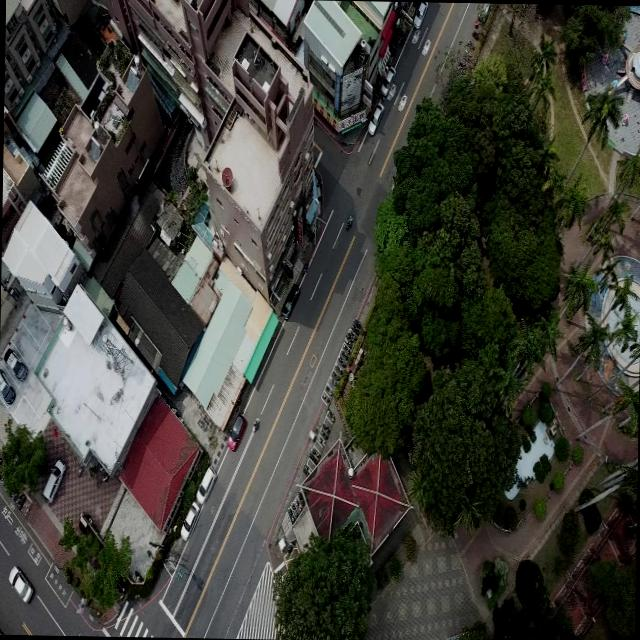bike: (251, 416, 259, 432), (290, 502, 298, 518), (302, 464, 312, 476), (308, 452, 318, 464), (320, 390, 330, 402), (352, 316, 362, 328), (294, 497, 302, 511), (298, 490, 305, 506), (346, 213, 352, 230), (288, 507, 294, 523), (328, 410, 336, 422), (352, 324, 360, 336), (322, 424, 331, 434), (312, 447, 320, 458), (318, 435, 326, 446), (320, 428, 328, 439), (324, 384, 332, 395), (331, 371, 339, 382), (338, 356, 346, 367), (328, 375, 336, 385), (334, 364, 342, 374), (340, 350, 348, 360), (343, 343, 350, 354)
car: (8, 564, 34, 603), (2, 347, 30, 382), (42, 460, 62, 504), (196, 463, 216, 502), (180, 501, 200, 539), (228, 412, 246, 450), (0, 367, 16, 404), (366, 101, 383, 134), (379, 65, 395, 98), (413, 2, 428, 30)
